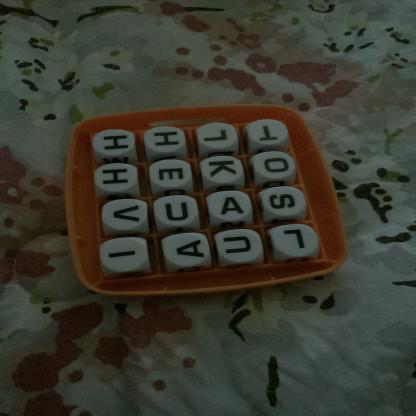a: (170, 237, 212, 262), (211, 193, 249, 220)
e: (152, 162, 193, 187)
h: (97, 165, 136, 190), (97, 130, 136, 154), (147, 128, 185, 152)
i: (101, 242, 147, 270)
k: (202, 157, 242, 181)
l: (277, 226, 317, 256), (198, 123, 237, 149)
o: (256, 153, 296, 178)
s: (264, 191, 302, 214)
t: (250, 121, 289, 146)
u: (160, 199, 197, 224), (220, 234, 258, 258)
v: (105, 202, 148, 228)
